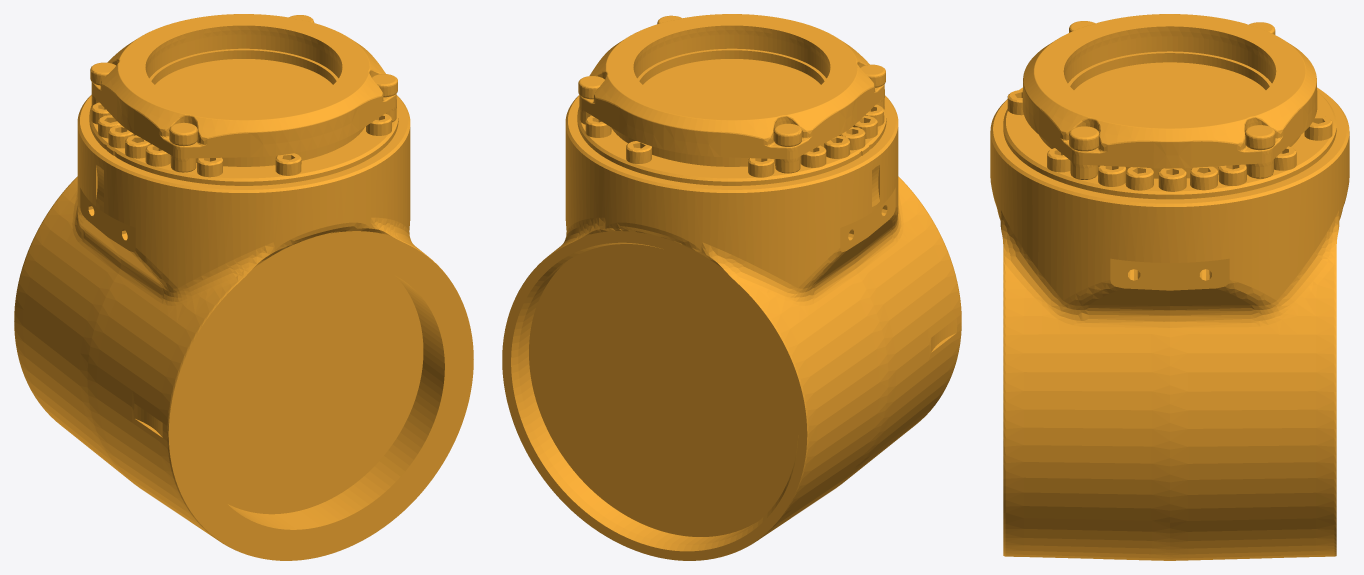
The model's file is ABBIRB1100Link5.dae.
The picture shows the model from 3 angles, left to right: view 1: azimuth 30°, elevation 25°; view 2: azimuth 150°, elevation 25°; view 3: azimuth 270°, elevation 25°; orthographic projection. The views are drawn at different scales.
Visible parts, largest first — view 1: irb1100Link5; view 2: irb1100Link5; view 3: irb1100Link5.
Boxes of the visible parts, x1,y1,x2,y2 form: irb1100Link5: (14, 14, 473, 560); irb1100Link5: (502, 14, 961, 560); irb1100Link5: (990, 14, 1349, 560).
Size of the model in its own units: 0.076 by 0.07 by 0.1011.
